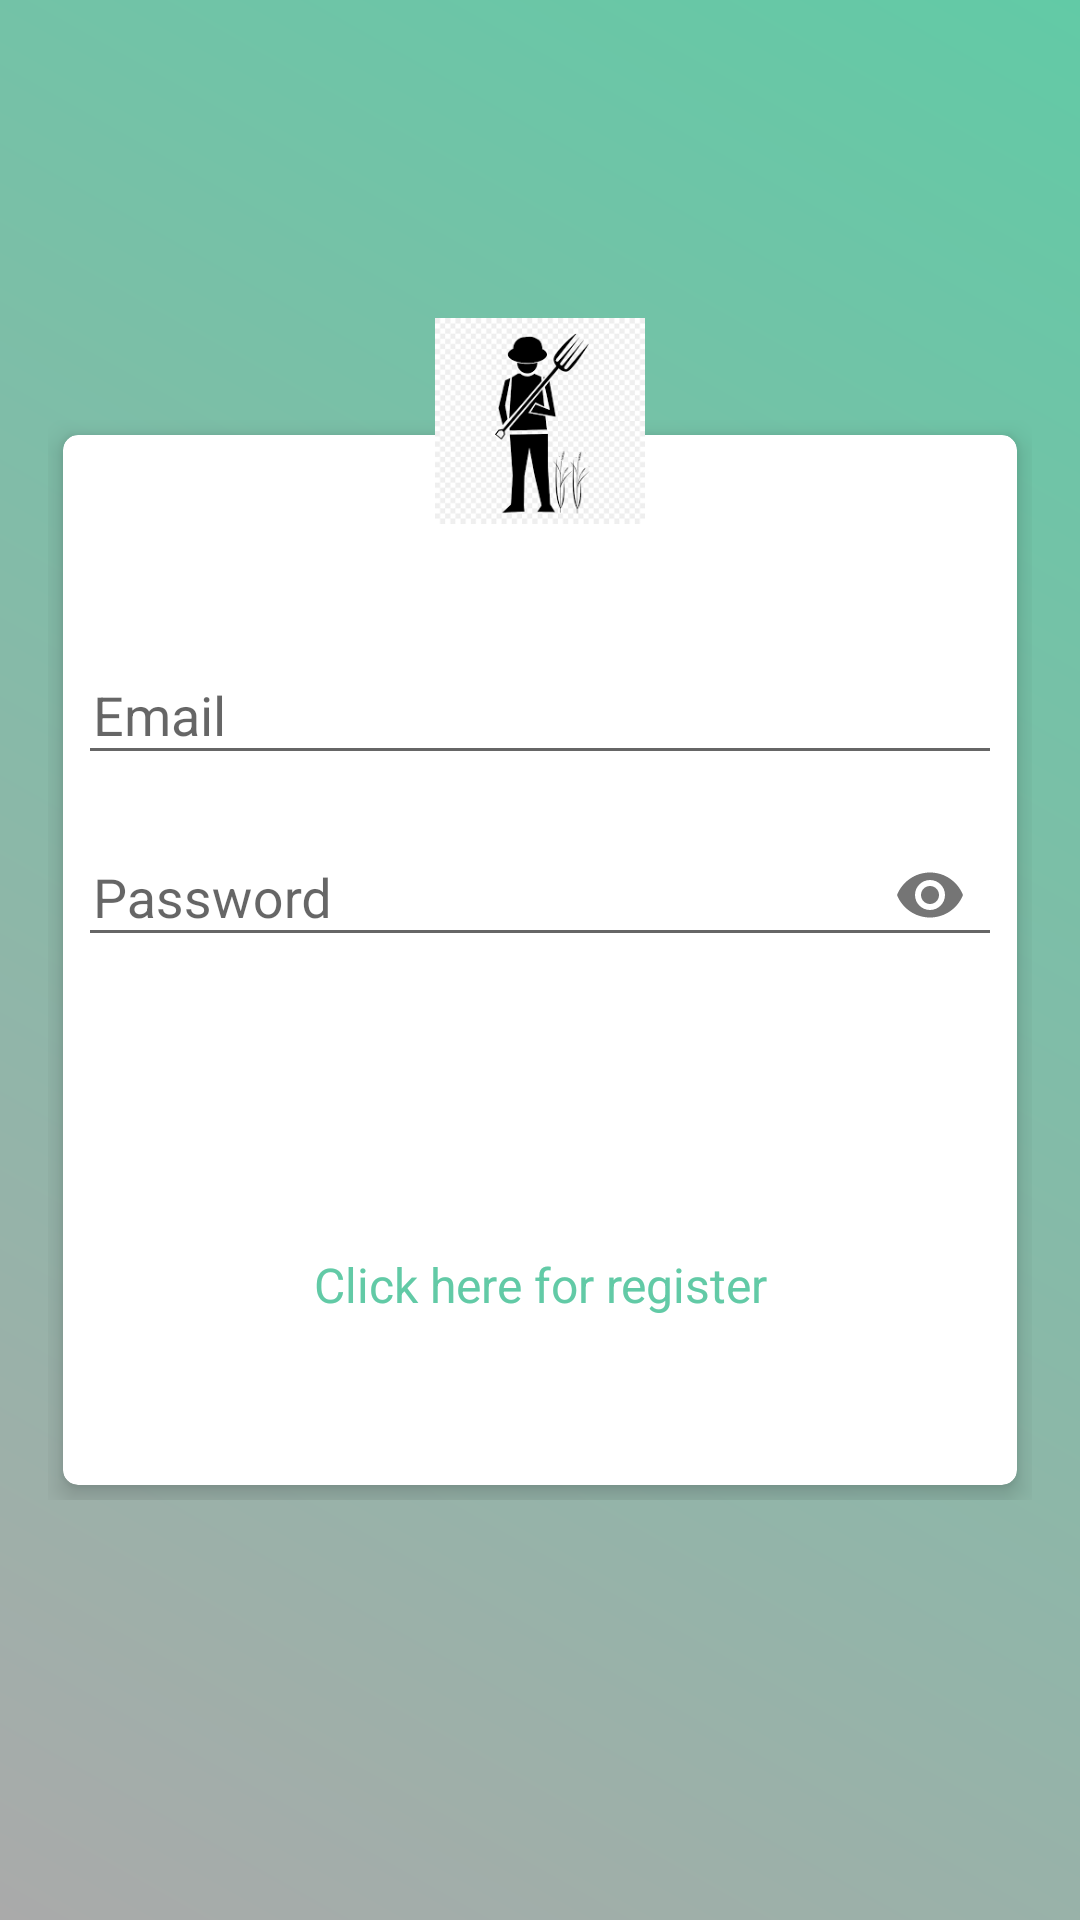

Screen size 1080*1920. Icon name, then its center in pixels as (x=x, y=y):
farmer: (x=540, y=421)
